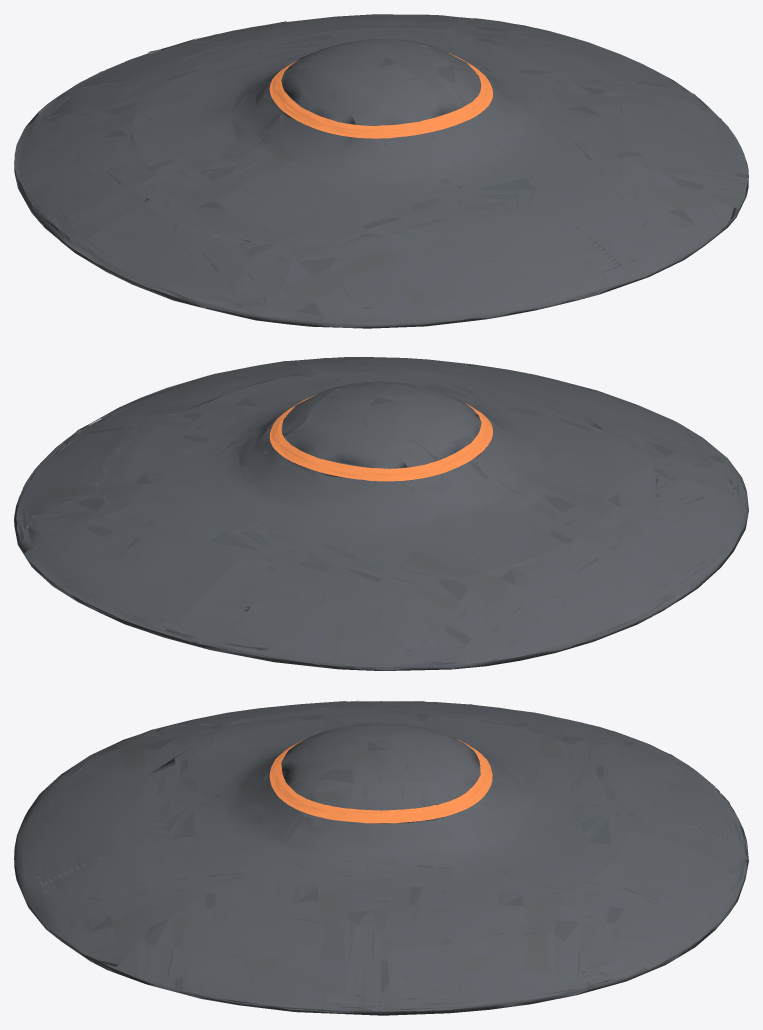
File: ufo.glb
3 views of the same model, one above another, from view 1: azimuth 30°, elevation 25°; view 2: azimuth 150°, elevation 25°; view 3: azimuth 270°, elevation 25° (orthographic). The views are drawn at different scales.
Parts seen in each view (by area): view 1: UFO_UFO Metal_0.001, UFO_UFO Metal_0.002, UFO; view 2: UFO_UFO Metal_0.001, UFO_UFO Metal_0.002, UFO; view 3: UFO_UFO Metal_0.001, UFO_UFO Metal_0.002, UFO.
Part boxes in pixels (left/top/right/bottom): UFO_UFO Metal_0.001: left=14, top=17, right=748, bottom=328; UFO_UFO Metal_0.002: left=14, top=14, right=748, bottom=314; UFO: left=47, top=22, right=718, bottom=309; UFO_UFO Metal_0.001: left=14, top=357, right=748, bottom=670; UFO_UFO Metal_0.002: left=16, top=361, right=745, bottom=665; UFO: left=26, top=365, right=733, bottom=661; UFO_UFO Metal_0.001: left=14, top=701, right=748, bottom=1015; UFO_UFO Metal_0.002: left=14, top=700, right=747, bottom=1012; UFO: left=37, top=708, right=745, bottom=1010.
Bounding box in the file's own units: 9.38 × 2.51 × 9.38.
Materials: 3 (3 with a texture image).
